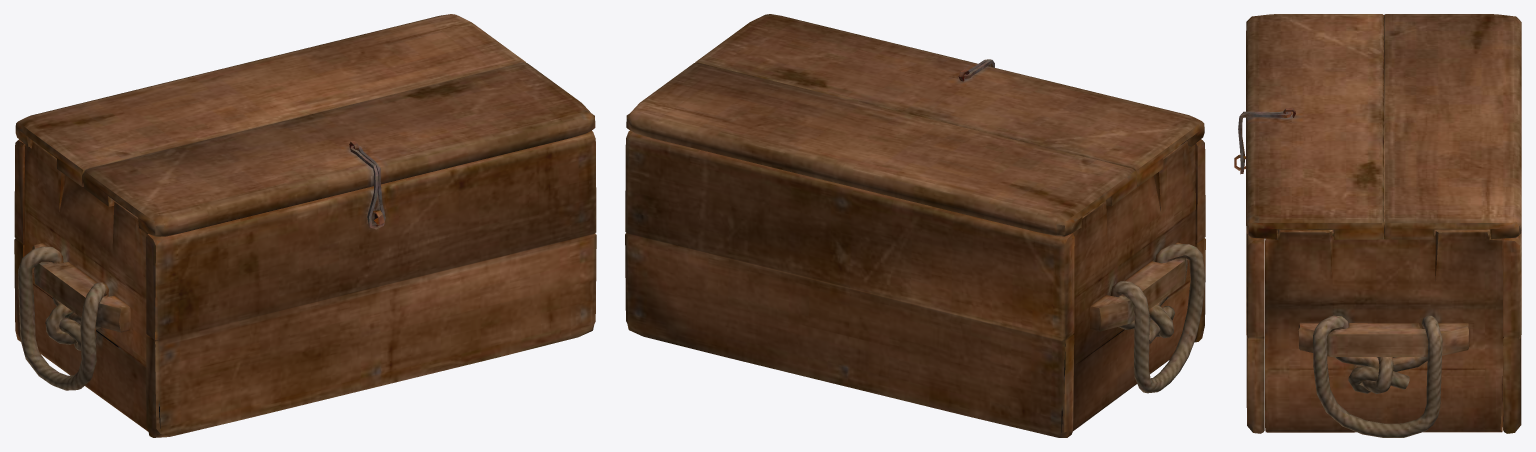
File: wooden_crate_01.glb
3 renders of one model, left to right at view 1: azimuth 30°, elevation 25°; view 2: azimuth 150°, elevation 25°; view 3: azimuth 270°, elevation 25°, orthographic. The views are drawn at different scales.
Parts seen in each view (by area): view 1: wooden_crate_01; view 2: wooden_crate_01; view 3: wooden_crate_01.
Part boxes in pixels (x1,y1,x2,y2): wooden_crate_01: (14, 14, 596, 437); wooden_crate_01: (625, 14, 1205, 437); wooden_crate_01: (1234, 14, 1521, 437).
Size of what is drawn, in the model's own units: 0.8245 by 0.349 by 0.4088.
1 material, 1 textured.
